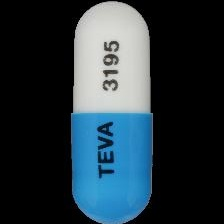63187-018: (0, 0, 224, 224)
